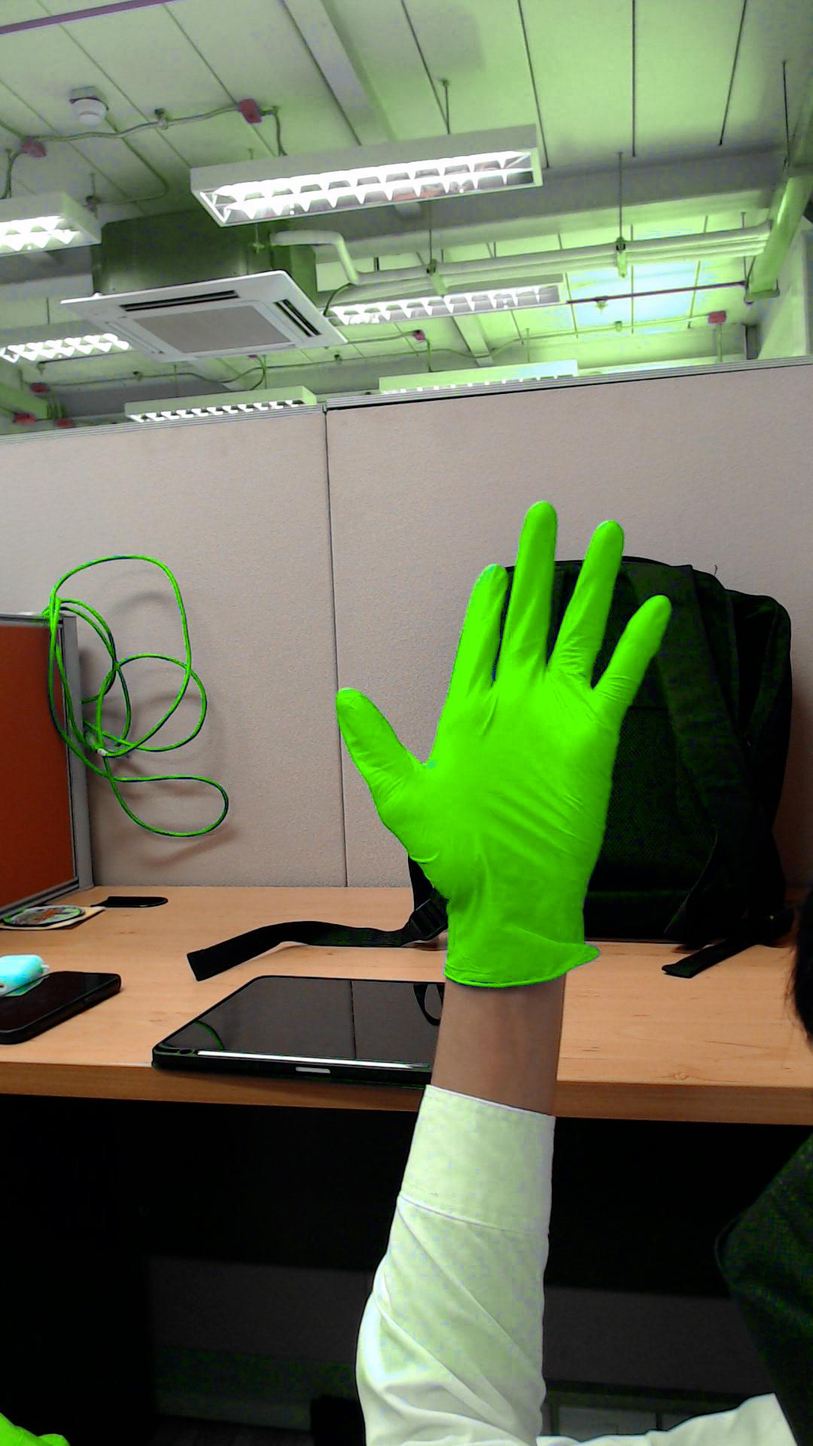gloves: (329, 486, 682, 862)
